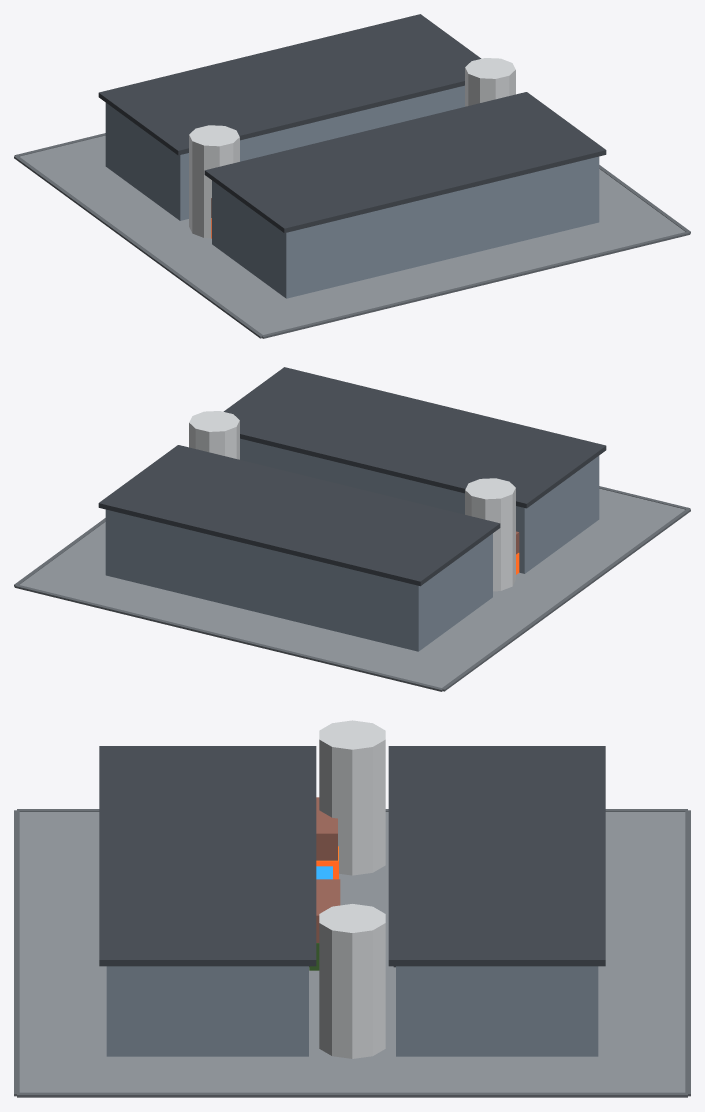
Rendered from block_industrial.glb.
3 views of the same model, one above another, from view 1: azimuth 30°, elevation 25°; view 2: azimuth 150°, elevation 25°; view 3: azimuth 270°, elevation 25° (orthographic). The views are drawn at different scales.
Visible parts, largest first — view 1: BlockIndustrial; view 2: BlockIndustrial; view 3: BlockIndustrial.
Boxes of the visible parts, x1=… form: BlockIndustrial: x1=14, y1=14, x2=690, y2=338; BlockIndustrial: x1=14, y1=367, x2=690, y2=691; BlockIndustrial: x1=14, y1=720, x2=690, y2=1097.
Size of the model in its own units: 58.5 by 12.18 by 58.5.
